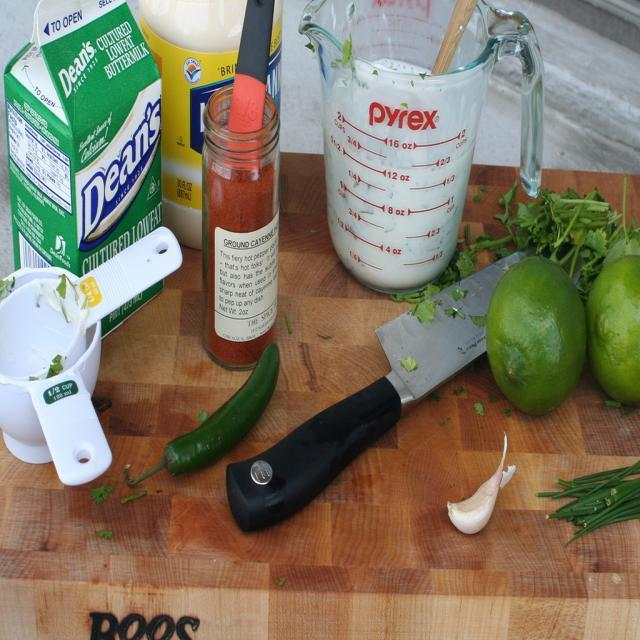Knife: (226, 254, 524, 531)
